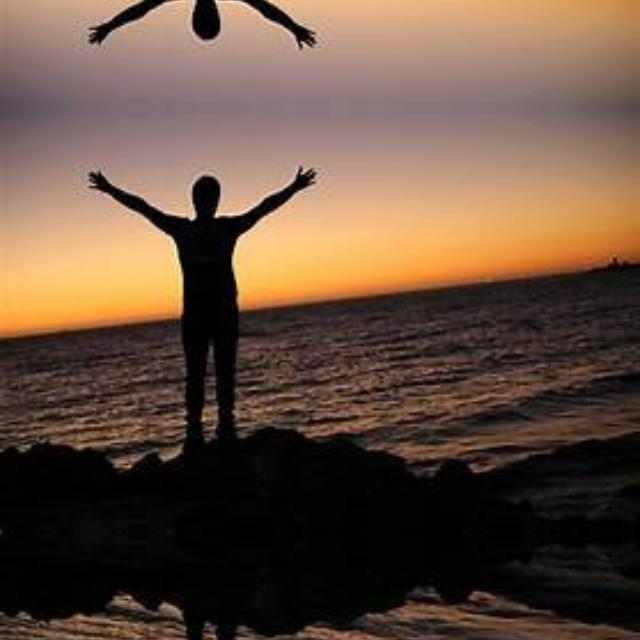person: (106, 136, 308, 432), (106, 0, 308, 78), (106, 629, 308, 640)
